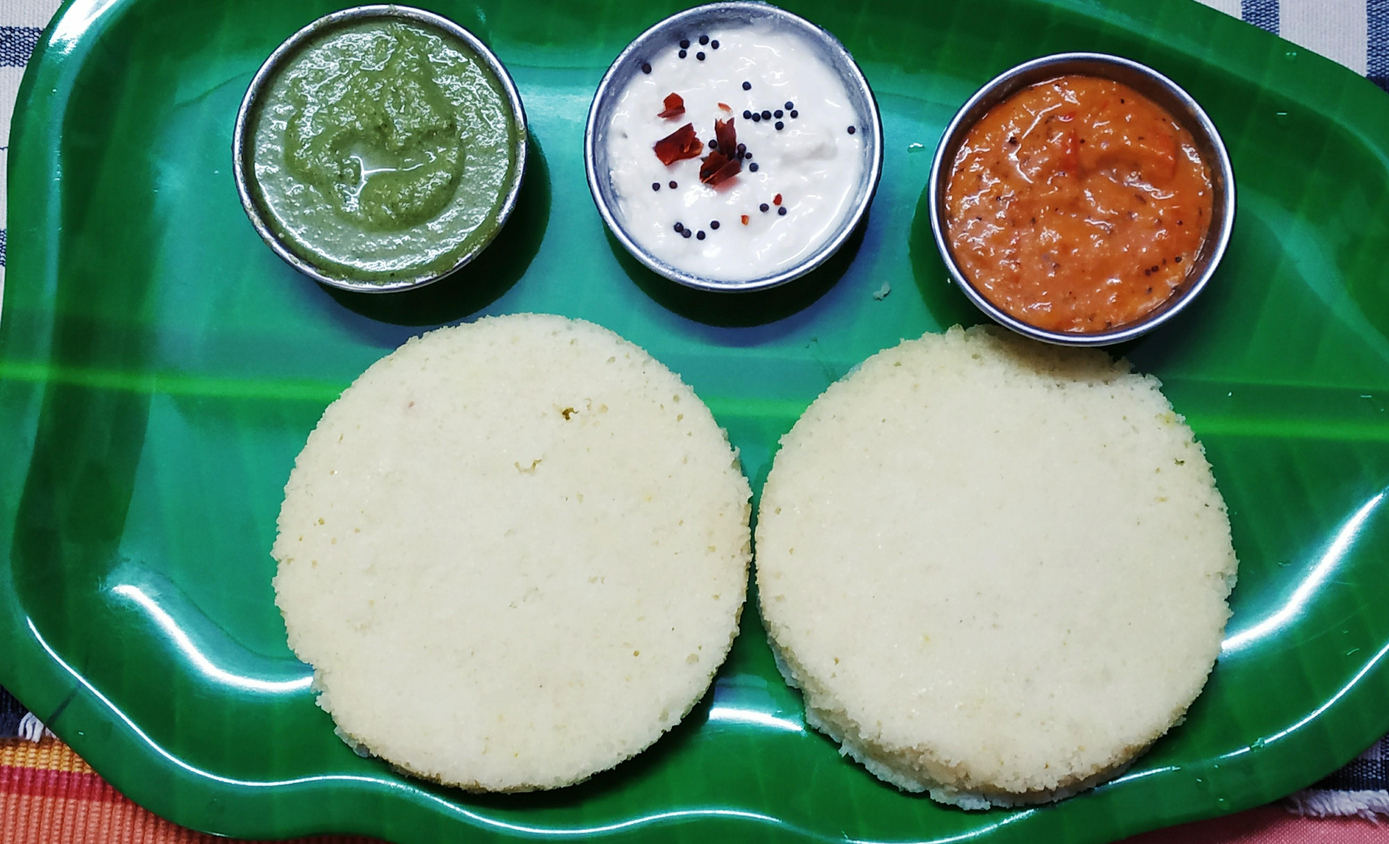Idli: (274, 314, 753, 789), (758, 332, 1236, 796)
